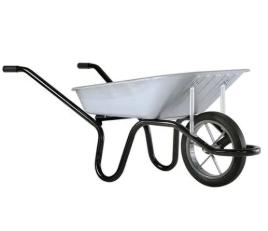BROUETTE: (0, 59, 262, 199)
